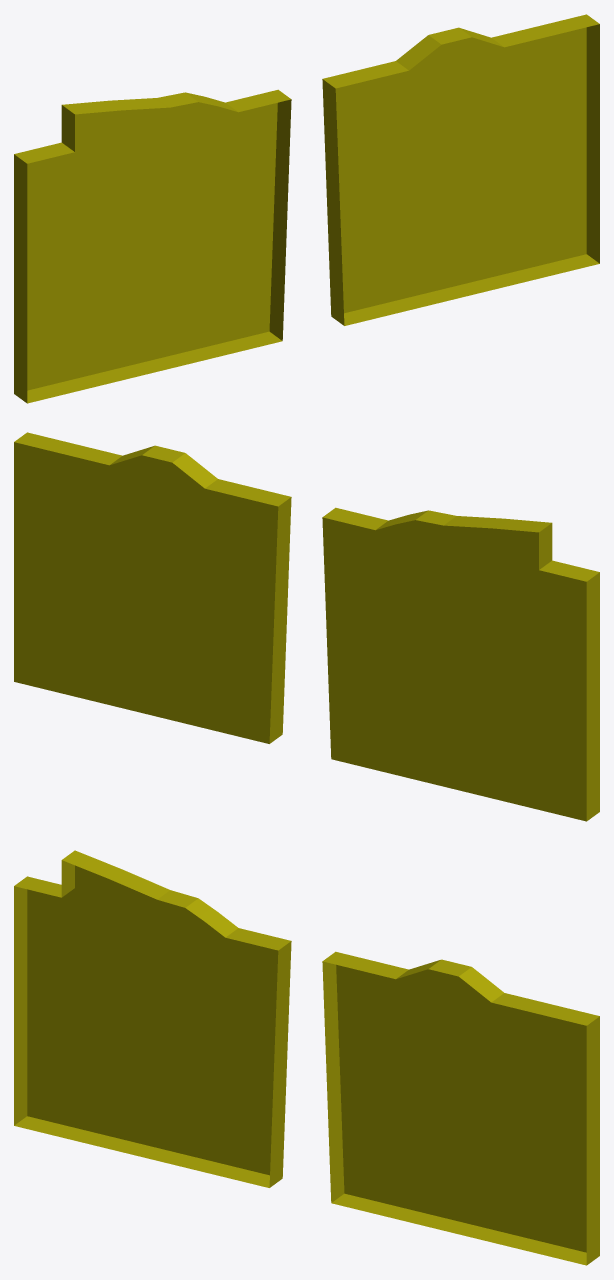
Rendered from 3 forest low res.fbx.
The picture shows the model from 3 angles, top to bottom: view 1: azimuth 30°, elevation 25°; view 2: azimuth 150°, elevation 25°; view 3: azimuth 330°, elevation 25°; orthographic projection.
Parts seen in each view (by area): view 1: lollipop_Forest_terrain; view 2: lollipop_Forest_terrain; view 3: lollipop_Forest_terrain.
Part boxes in pixels (<box>): lollipop_Forest_terrain: <box>14,14,599,403</box>; lollipop_Forest_terrain: <box>14,432,599,821</box>; lollipop_Forest_terrain: <box>14,850,599,1265</box>.
Size of the model in its own units: 25 by 11.57 by 1.
